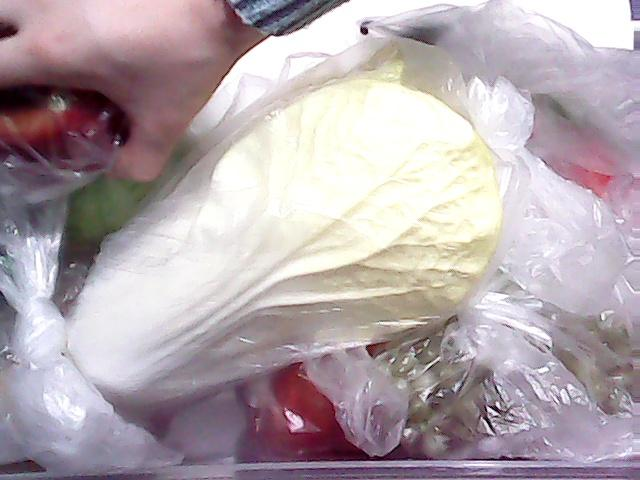apple: (0, 36, 148, 192)
cabbage: (50, 138, 196, 278)
carrot: (526, 62, 640, 198)
grape: (402, 298, 640, 478)
napa cabbage: (51, 76, 517, 406)
peach: (236, 339, 404, 480)
